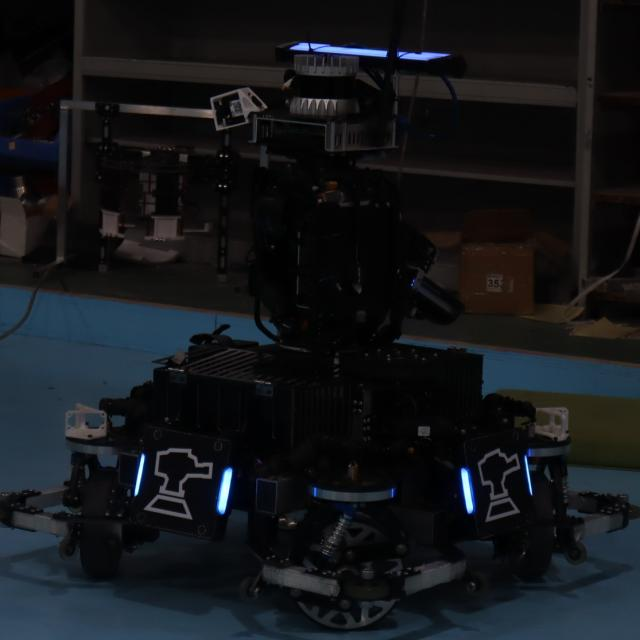Bs: (133, 434, 233, 536), (455, 437, 536, 526)
